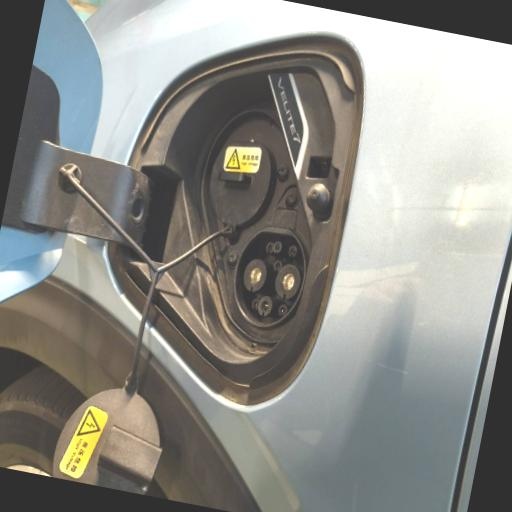DC_hole: (270, 260, 305, 303), (240, 256, 270, 296)
PE: (254, 294, 276, 318)
charging_port: (224, 219, 315, 336)
